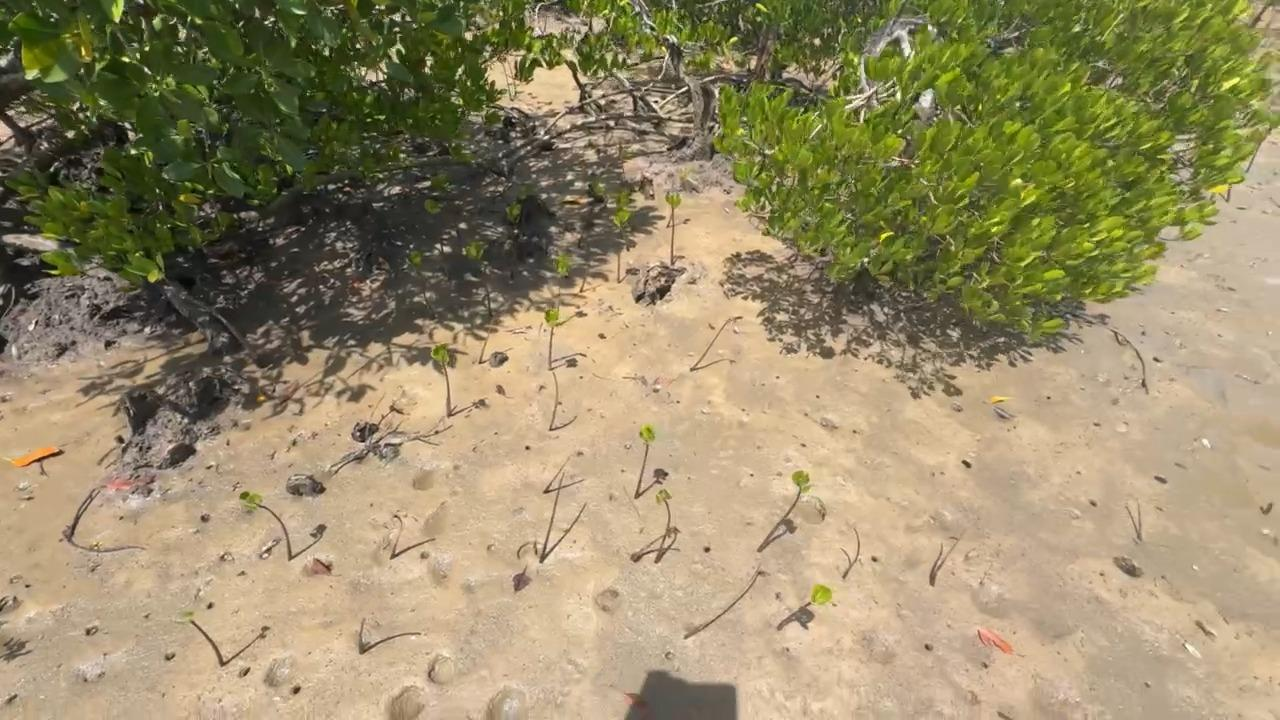Tree: (758, 469, 813, 552), (239, 491, 293, 560), (174, 609, 225, 666), (691, 315, 743, 370), (609, 187, 632, 282), (540, 474, 565, 561), (465, 241, 492, 316), (577, 178, 606, 245), (431, 343, 454, 415), (409, 251, 434, 316), (929, 536, 960, 587), (631, 532, 681, 562), (634, 426, 654, 497), (360, 631, 421, 654), (654, 488, 672, 564), (665, 192, 683, 263), (504, 204, 520, 281), (551, 253, 571, 311), (425, 199, 445, 253), (840, 527, 861, 577), (390, 538, 436, 560), (478, 317, 495, 363), (545, 310, 558, 370), (1125, 499, 1143, 540), (803, 584, 832, 609), (551, 371, 559, 431), (667, 191, 677, 226)
